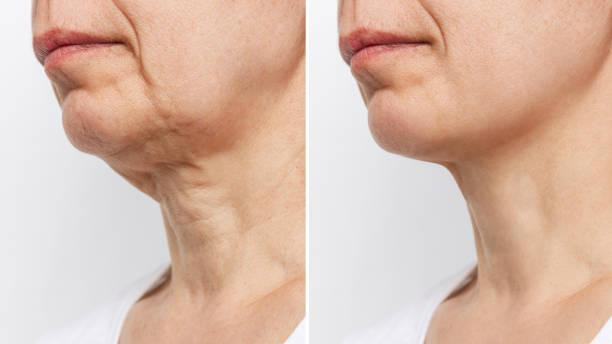Dry-Skin: (135, 0, 300, 140)
